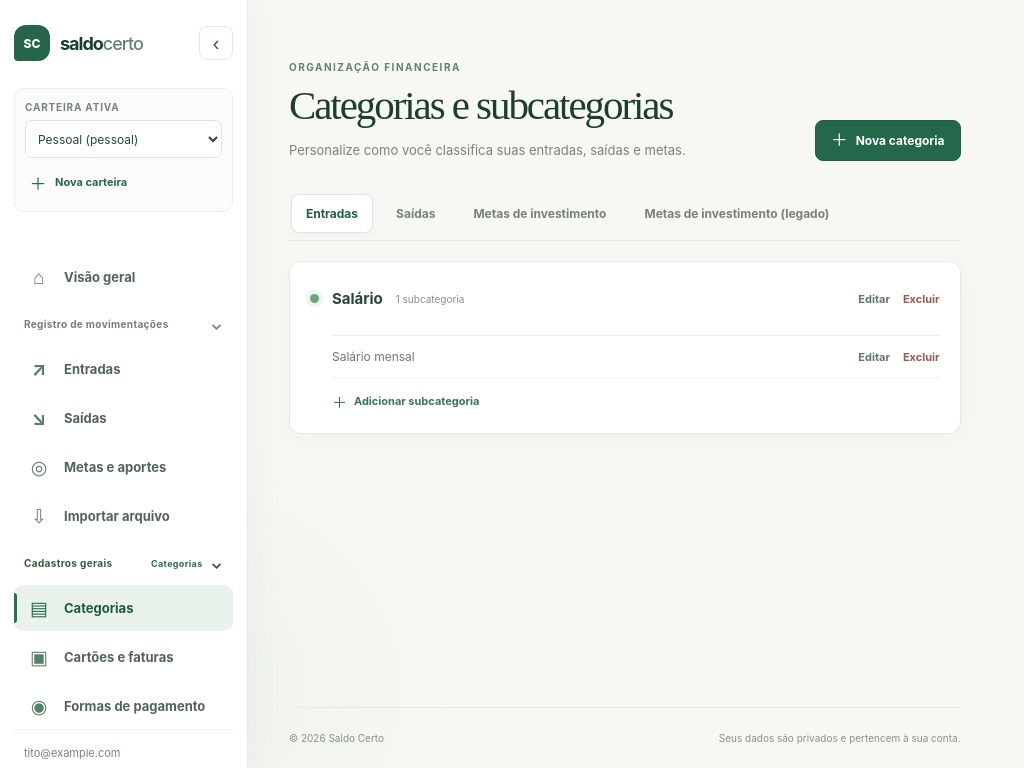
CategoriesPage duplicate names › rejects a subcategory duplicate when the only difference is diacritics
Expected: the dropdown labelled "Carteira ativa" is shown, [25,120,222,158]
Step 1. Click the button "＋ Adicionar subcategoria" → x=406, y=401, box [332,384,479,418]
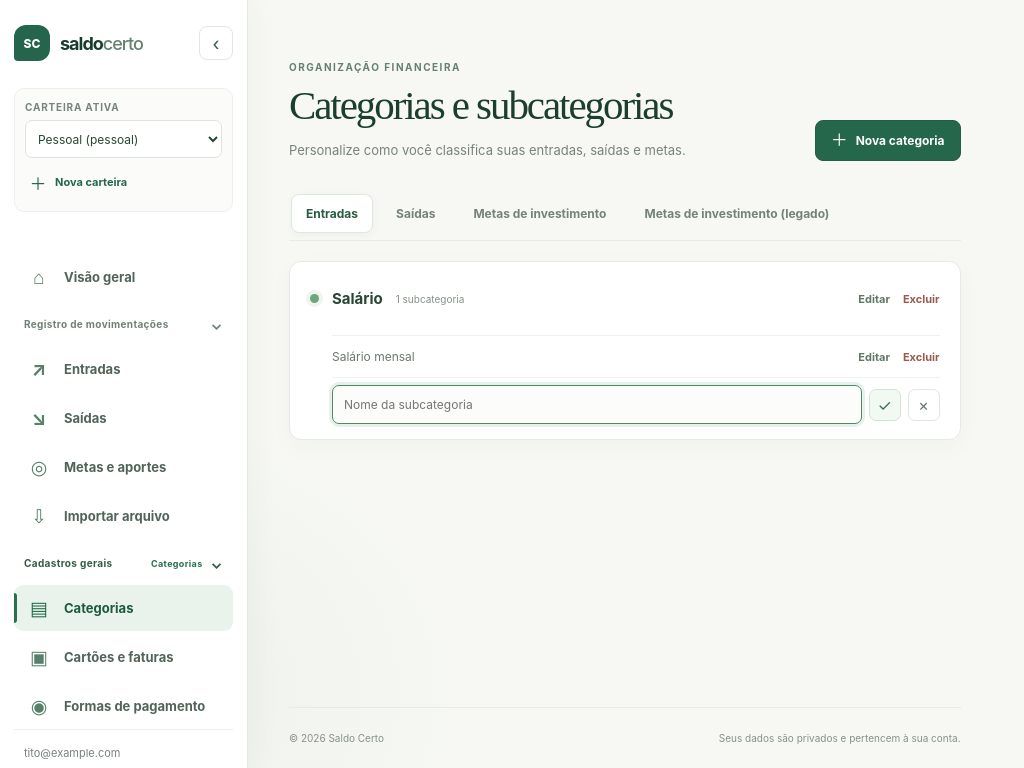
Step 2. Type "salario mensal" into the field named "Nome da nova subcategoria" → x=597, y=405, box [332,385,862,424]
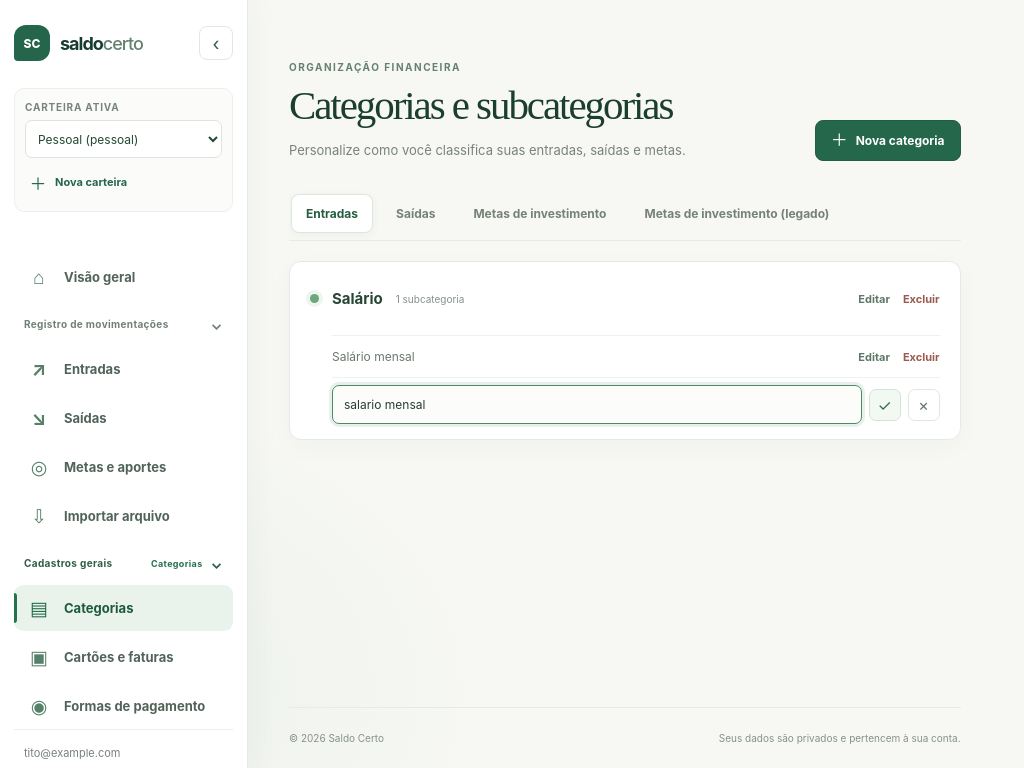
Step 3. Click the button named "Salvar subcategoria" → x=884, y=405, box [868,389,900,421]
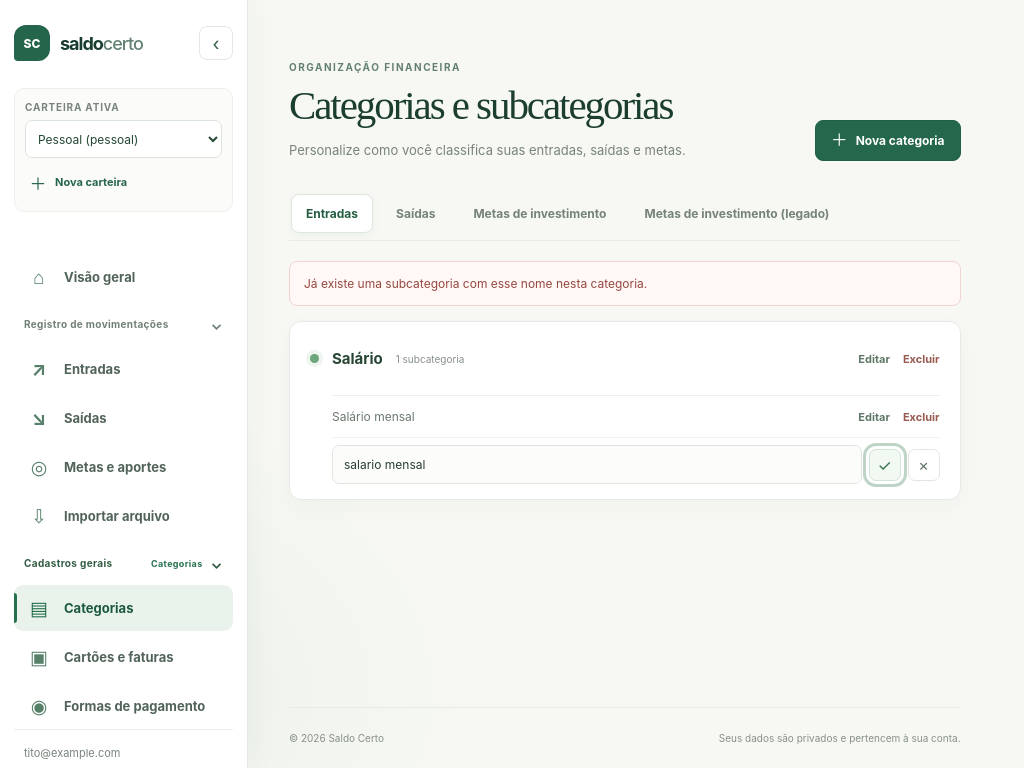
Result: the message shows "Já existe uma subcategoria com esse nome" at [304,276,647,291]
